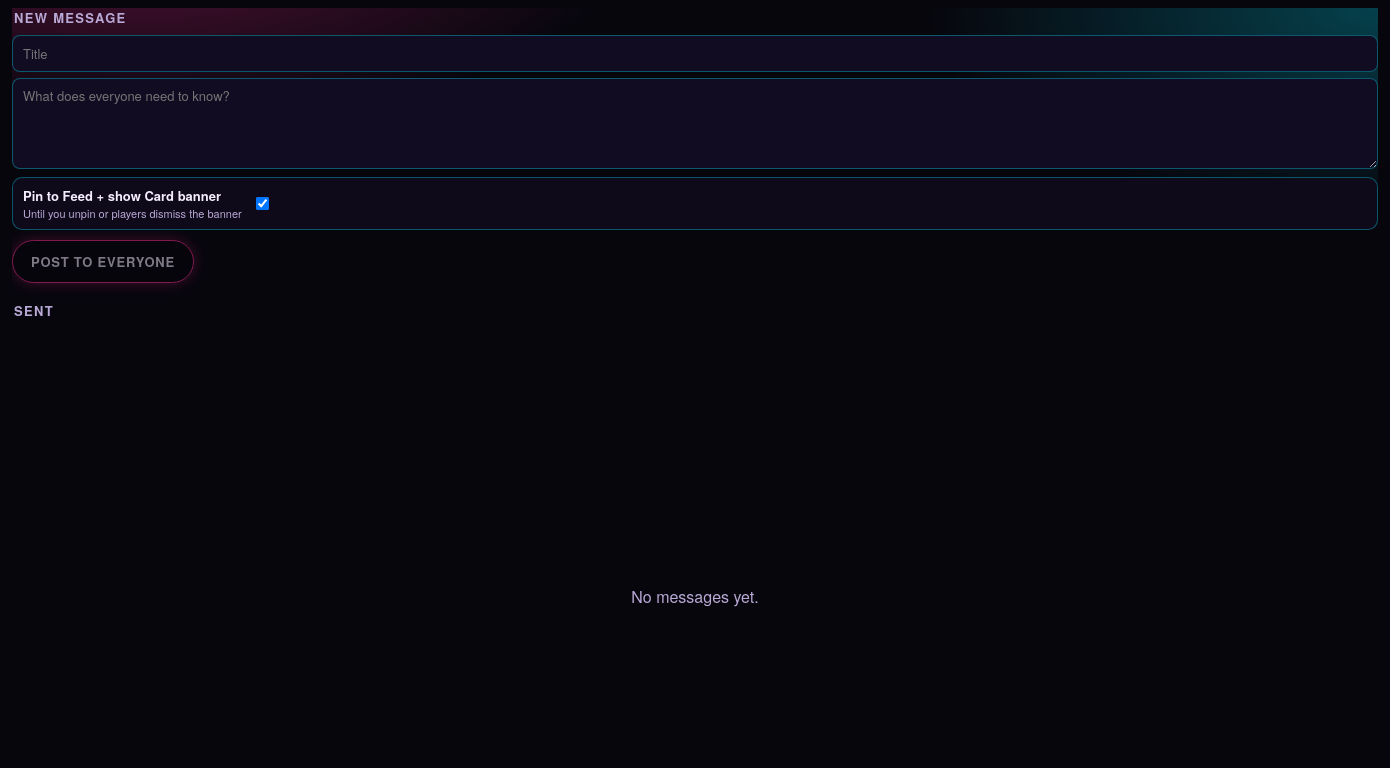
Scenario: MessagesPanel (specs/admin-messages.md) › the Post button is disabled until both title and body are non-empty
Expected: the button "Post to everyone" is disabled, [12, 240, 194, 283]
Type "T" into the field named "Notice title" at (695, 54), box [12, 35, 1378, 72]
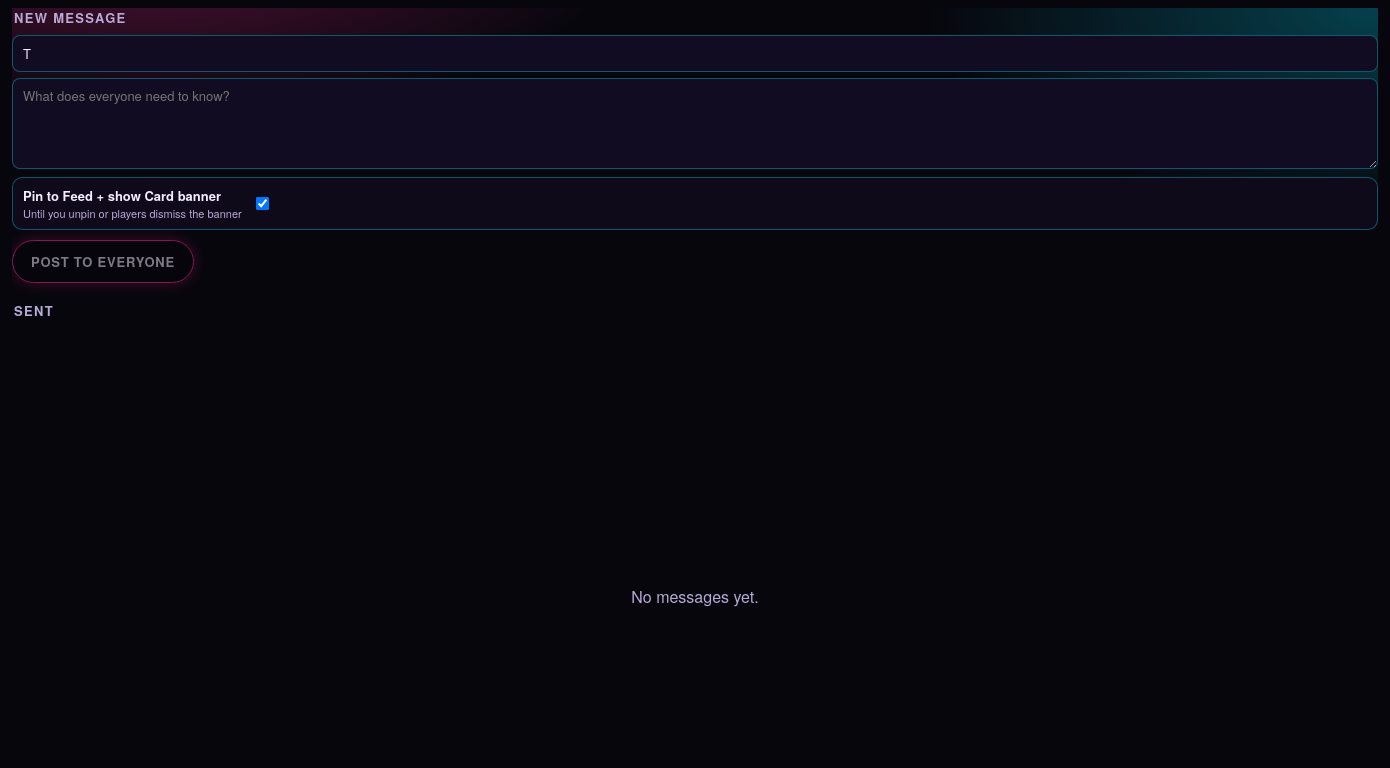
Expected: the button "Post to everyone" is disabled, [12, 240, 194, 283]
Type "B" into the text box named "Notice body" at (695, 123), box [12, 78, 1378, 169]
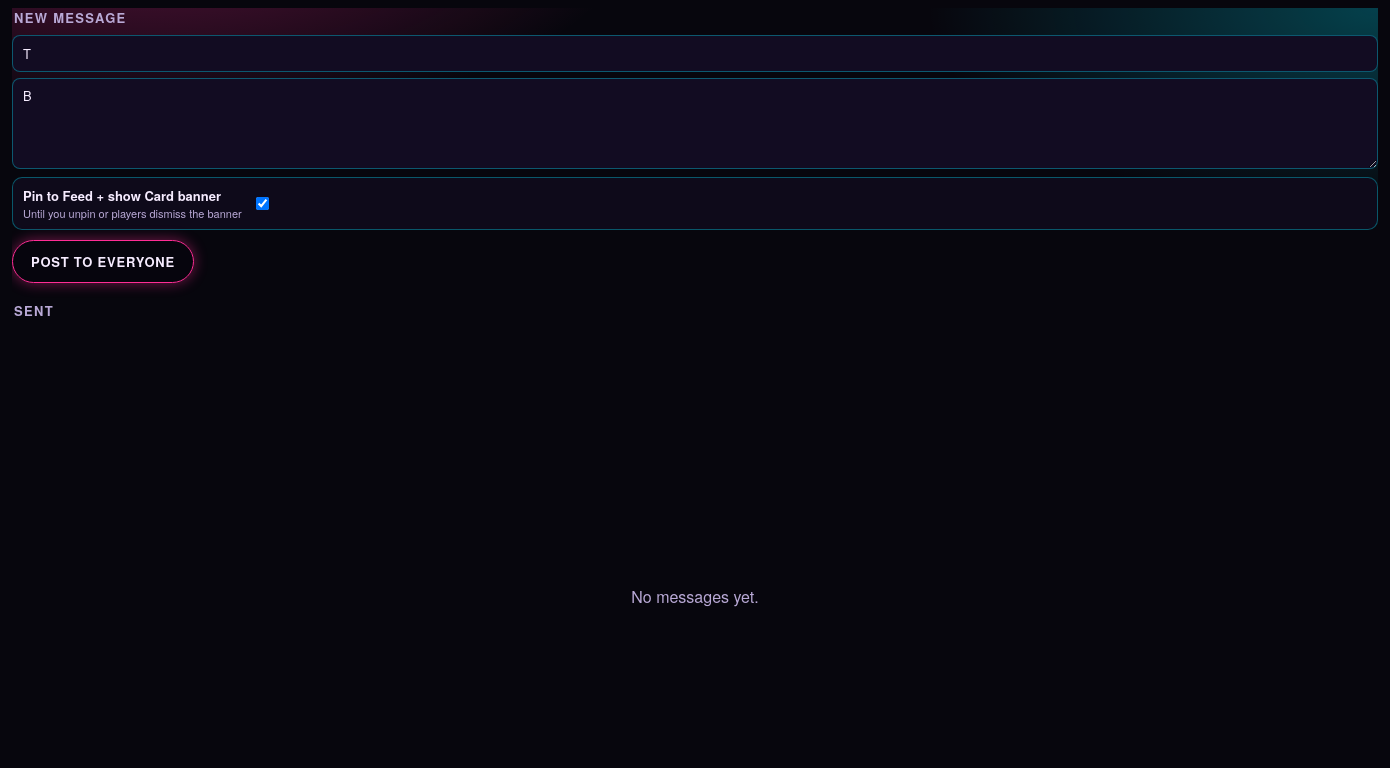
Expected: the button "Post to everyone" is enabled, [12, 240, 194, 283]
